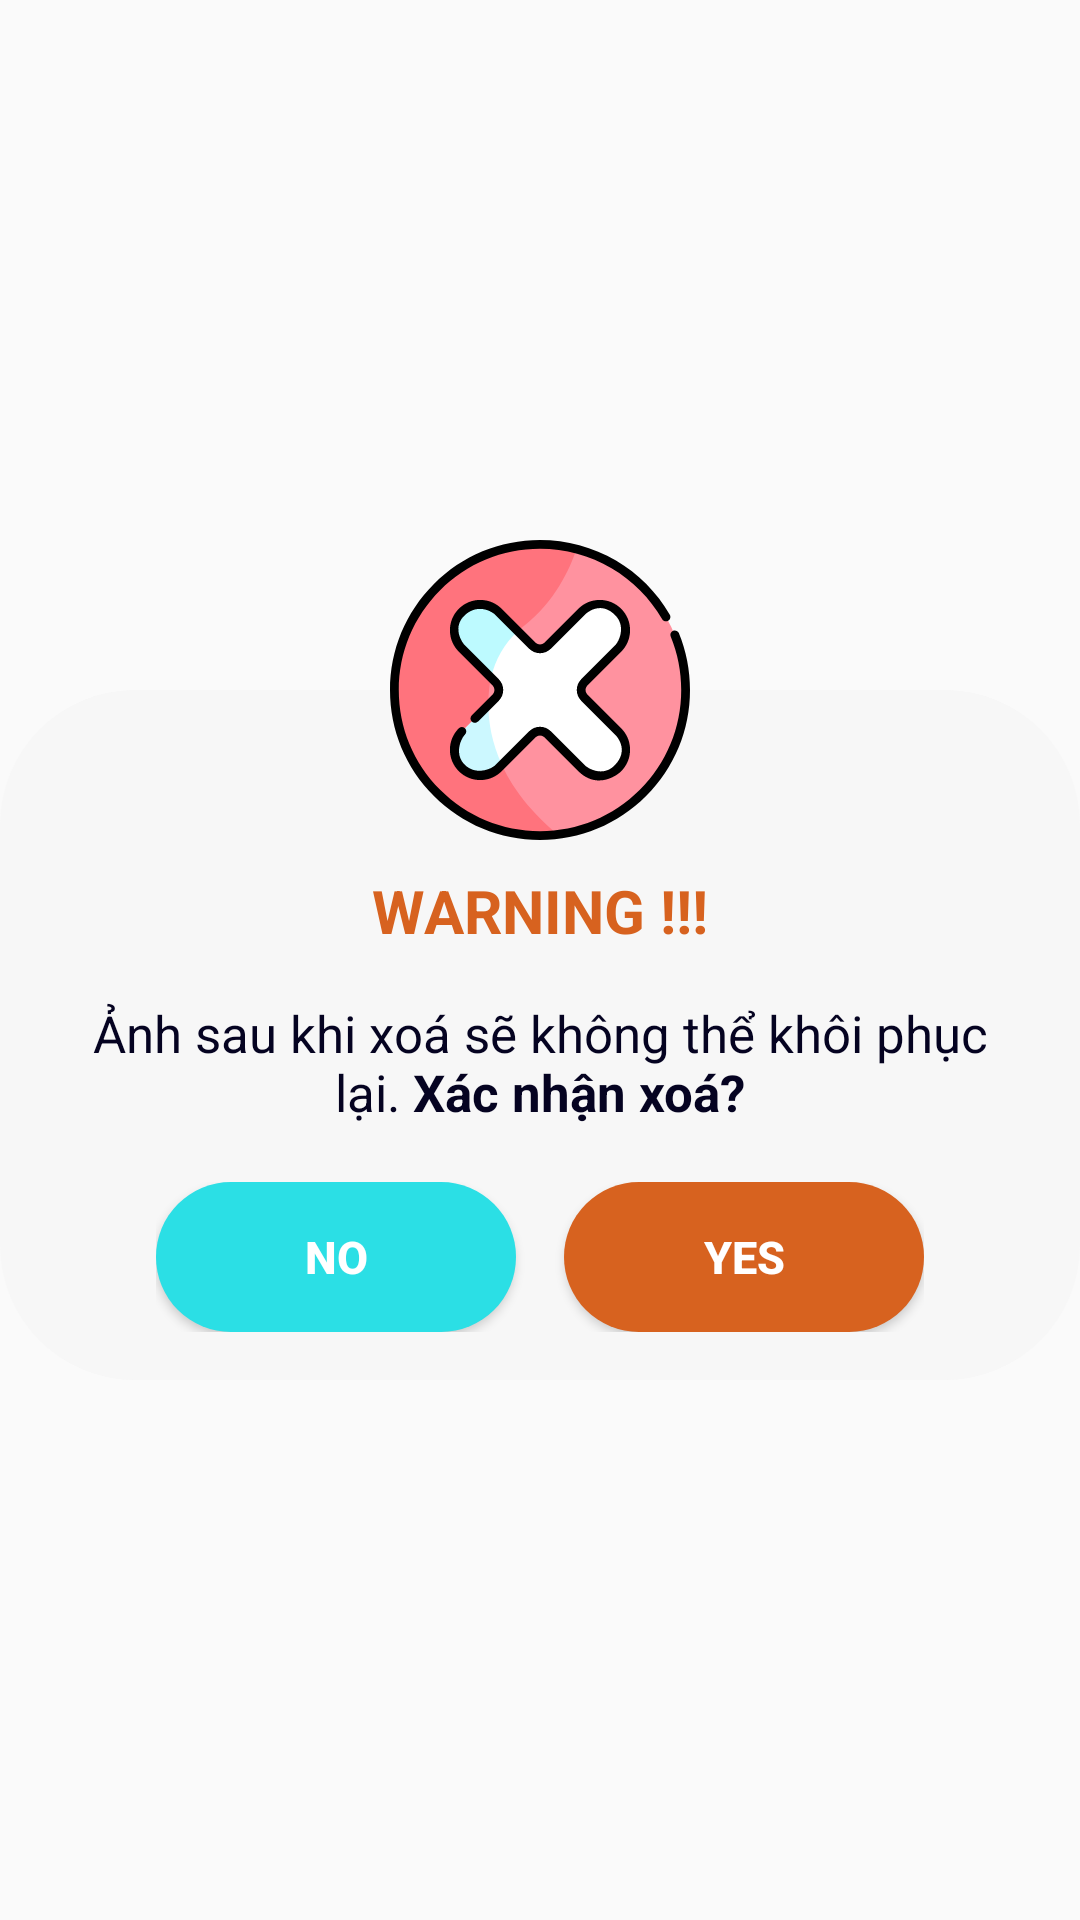

Named icons in this screenshot (1080x1920) and their centers, (x,y):
delete: (540,690)
